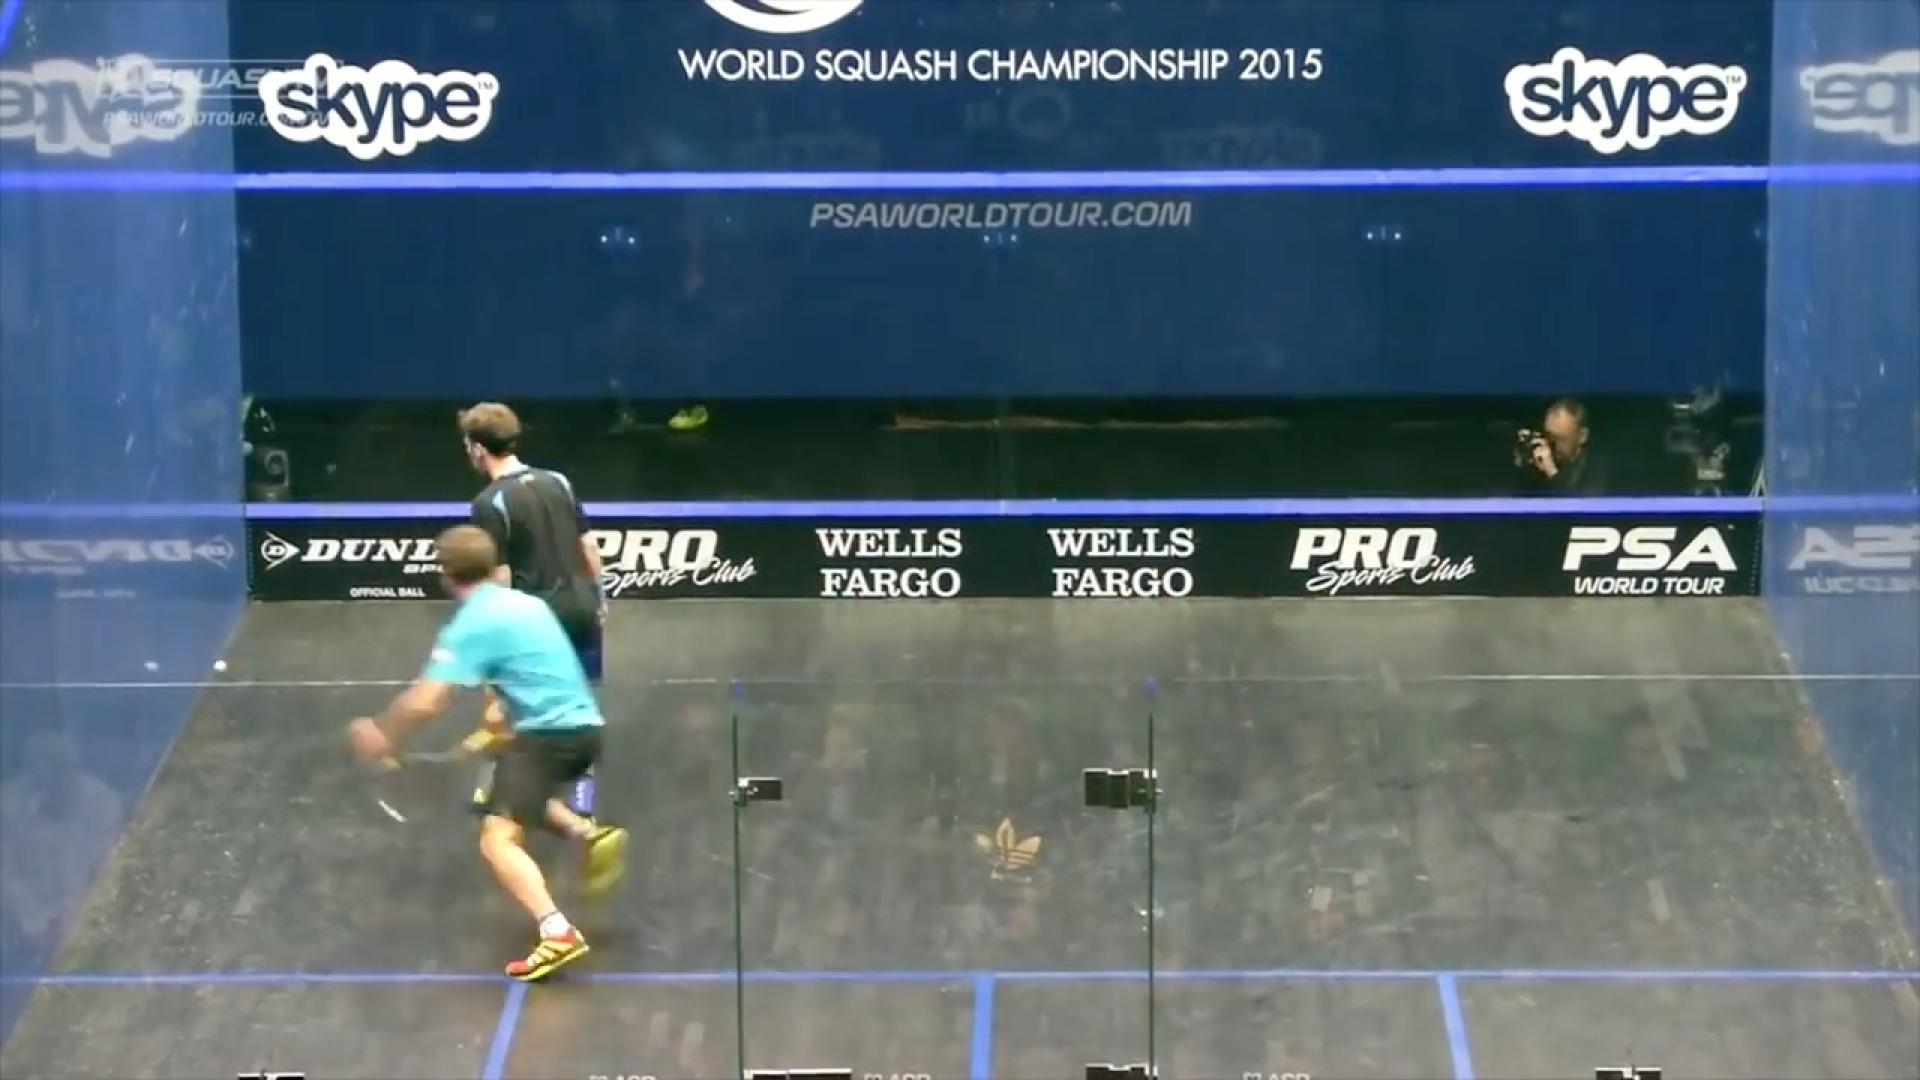Squash-Ball: (198, 641, 245, 692)
